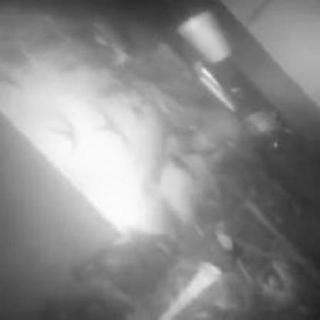other: (34, 96, 154, 230)
